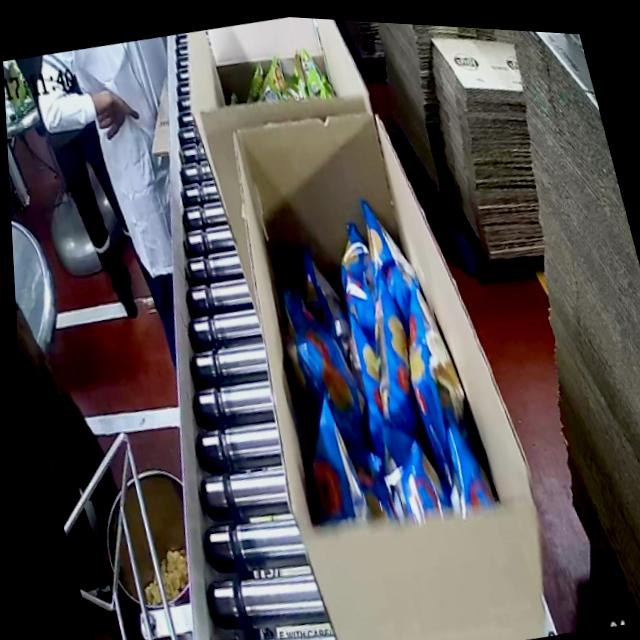PAPRIKA: (245, 182, 504, 546)
